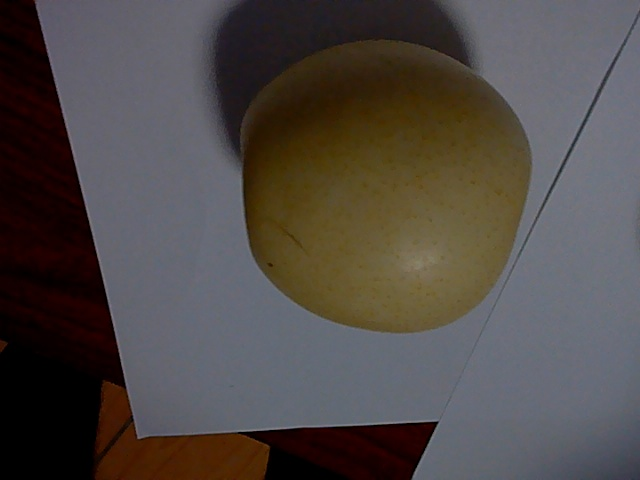pear: (237, 44, 529, 333)
